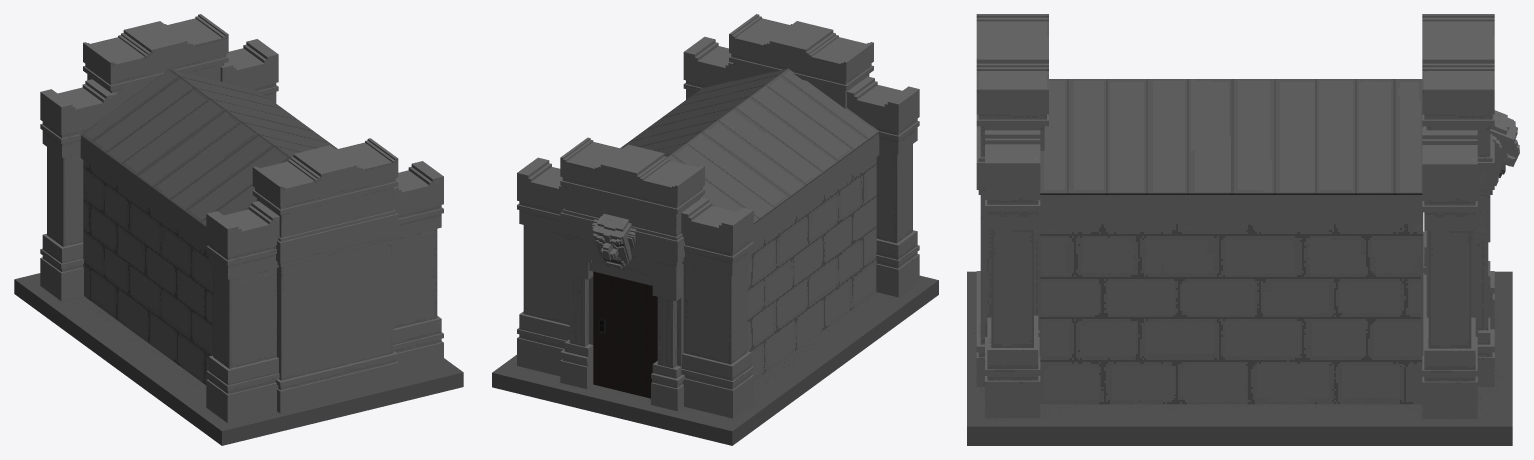
Rendered from 7e95c2ce-38de-4f38-911f-93712effa171.gltf.
3 renders of one model, left to right at view 1: azimuth 30°, elevation 25°; view 2: azimuth 150°, elevation 25°; view 3: azimuth 270°, elevation 25°, orthographic. The views are drawn at different scales.
Visible parts, largest first — view 1: Back-Local, Crypt-Local, roof-A-Local, right (1)-Local, ground-Local, left (1)-Local, right-Local, middle-Local, root-B-Local, left-Local; view 2: middle-Local, Crypt-Local, roof-A-Local, ground-Local, right-Local, left-Local, right (1)-Local, Back-Local, root-B-Local, left (1)-Local, face-Local; view 3: Crypt-Local, root-B-Local, ground-Local, left-Local, left (1)-Local, middle-Local, Back-Local, face-Local.
Boxes of the visible parts, x1,y1,x2,y2 form: Back-Local: [252, 138, 398, 413]; Crypt-Local: [80, 136, 212, 384]; roof-A-Local: [80, 69, 290, 226]; right (1)-Local: [206, 201, 279, 423]; ground-Local: [14, 273, 463, 445]; left (1)-Local: [393, 161, 443, 381]; right-Local: [40, 79, 117, 301]; middle-Local: [83, 14, 228, 106]; root-B-Local: [169, 69, 337, 157]; left-Local: [220, 39, 278, 103]; middle-Local: [560, 137, 704, 411]; Crypt-Local: [747, 133, 879, 380]; roof-A-Local: [667, 69, 879, 223]; ground-Local: [492, 275, 938, 445]; right-Local: [681, 197, 753, 418]; left-Local: [517, 157, 569, 376]; right (1)-Local: [847, 76, 919, 297]; Back-Local: [729, 14, 873, 108]; root-B-Local: [620, 68, 788, 156]; left (1)-Local: [683, 36, 733, 99]; face-Local: [591, 213, 636, 269]; Crypt-Local: [1039, 195, 1423, 404]; root-B-Local: [1040, 79, 1423, 194]; ground-Local: [967, 271, 1512, 445]; left-Local: [1422, 128, 1477, 418]; left (1)-Local: [985, 130, 1040, 418]; middle-Local: [1422, 14, 1494, 386]; Back-Local: [976, 14, 1048, 386]; face-Local: [1490, 110, 1519, 185].
Bounding box in the file's own units: 172 × 166 × 259.
Materials: 11 (11 with a texture image).
